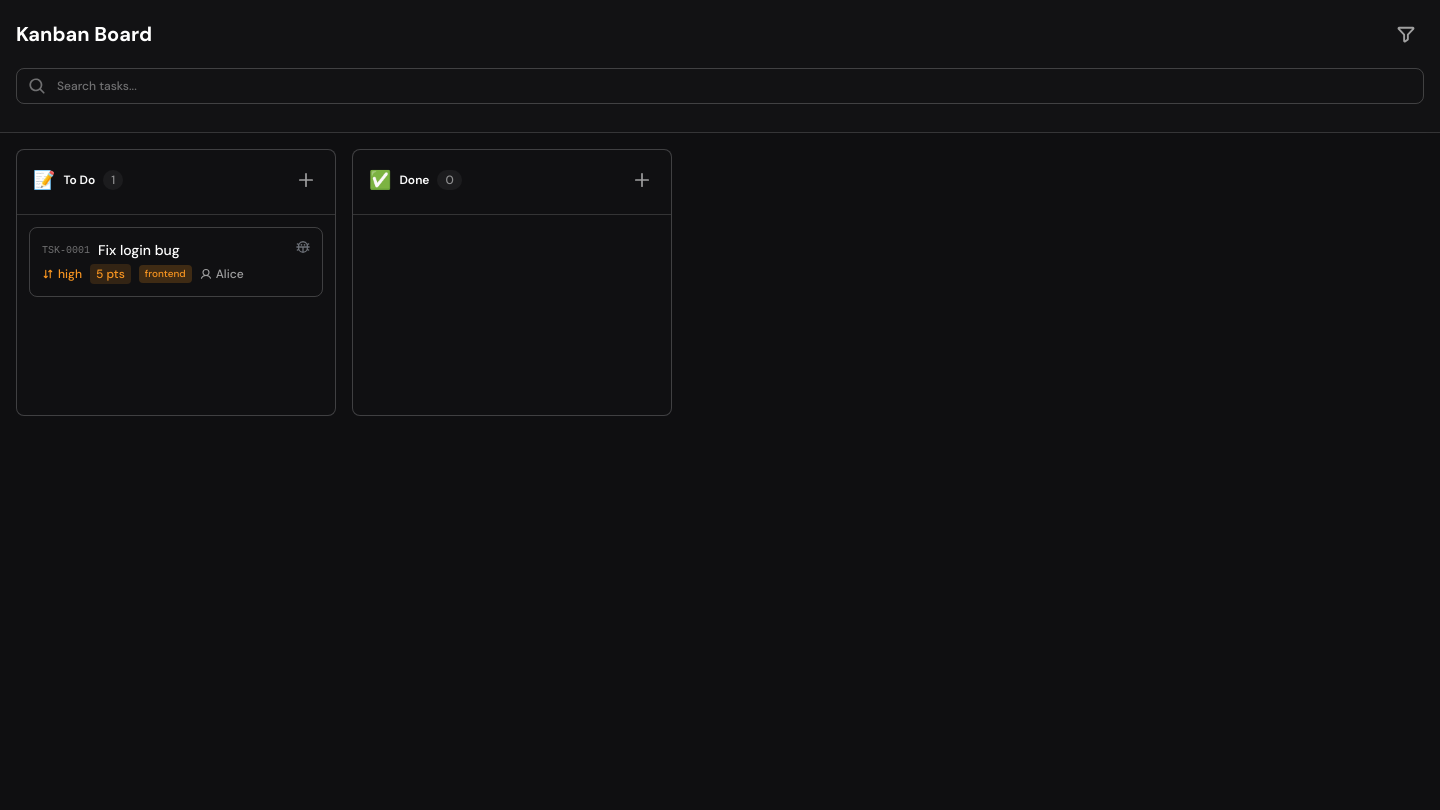
Test: KanbanPanel › shows Estimate (pts) input in create task modal
This screenshot has width=1440, height=810.
Expected: the heading "To Do" is shown, top-left (64, 171), bottom-right (95, 189)
Note: Click the "+" button on the To Do column
Click the button titled "Add task" in the row of "To Do" at (306, 180), box top-left (293, 167), bottom-right (319, 193)
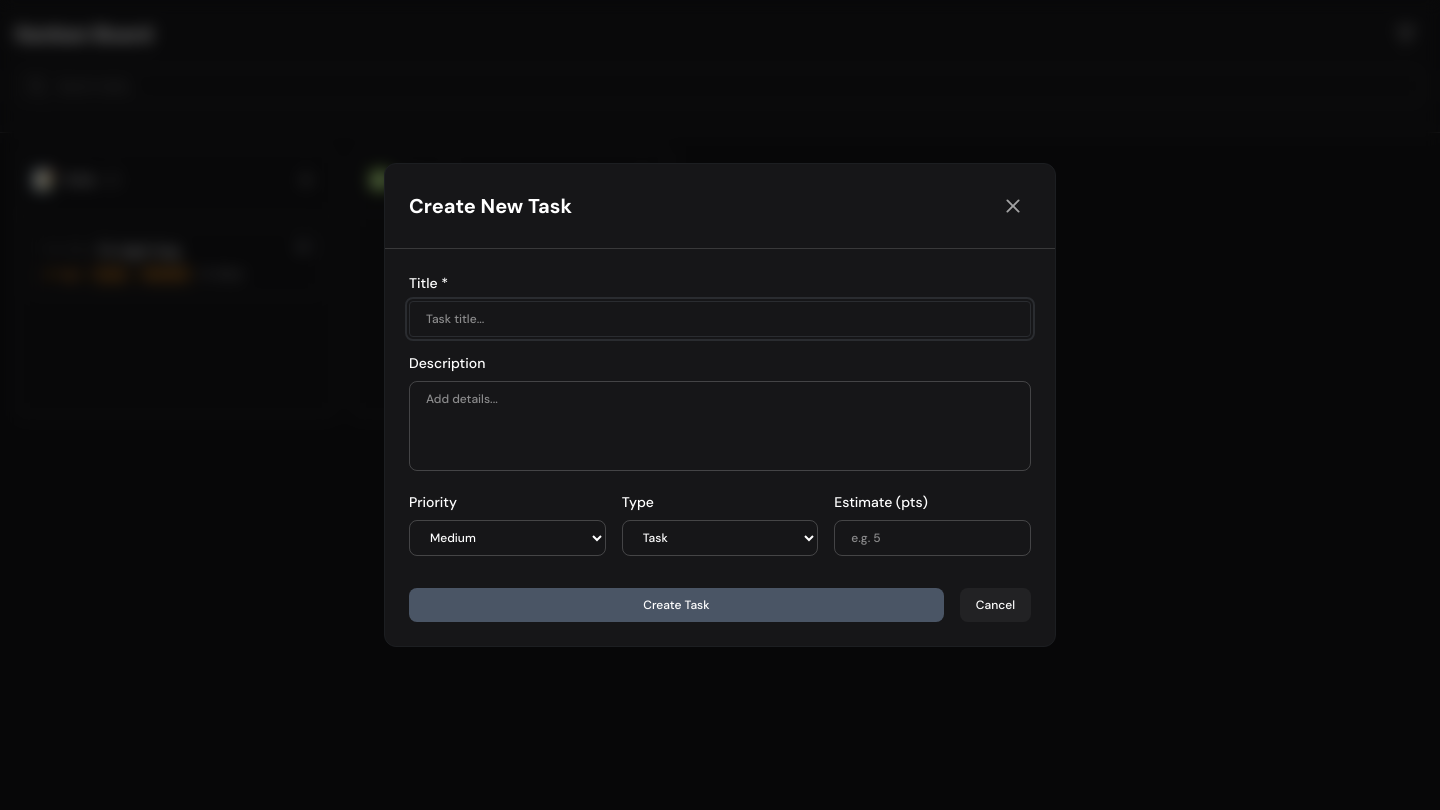
Result: the text "Estimate (pts)" is shown at top-left (834, 493), bottom-right (928, 511)
Result: the number field with placeholder "e.g. 5" is shown at top-left (834, 520), bottom-right (1031, 556)
